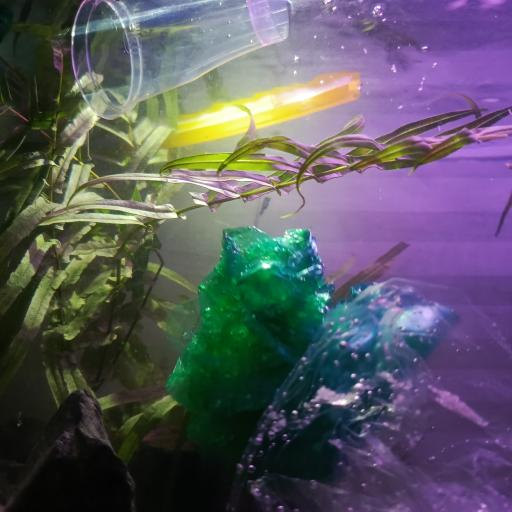plastic_bag: (233, 272, 512, 512), (250, 279, 451, 473), (167, 227, 325, 444)
plastic_cup: (75, 0, 288, 118)
plastic_straw: (167, 74, 363, 152)
